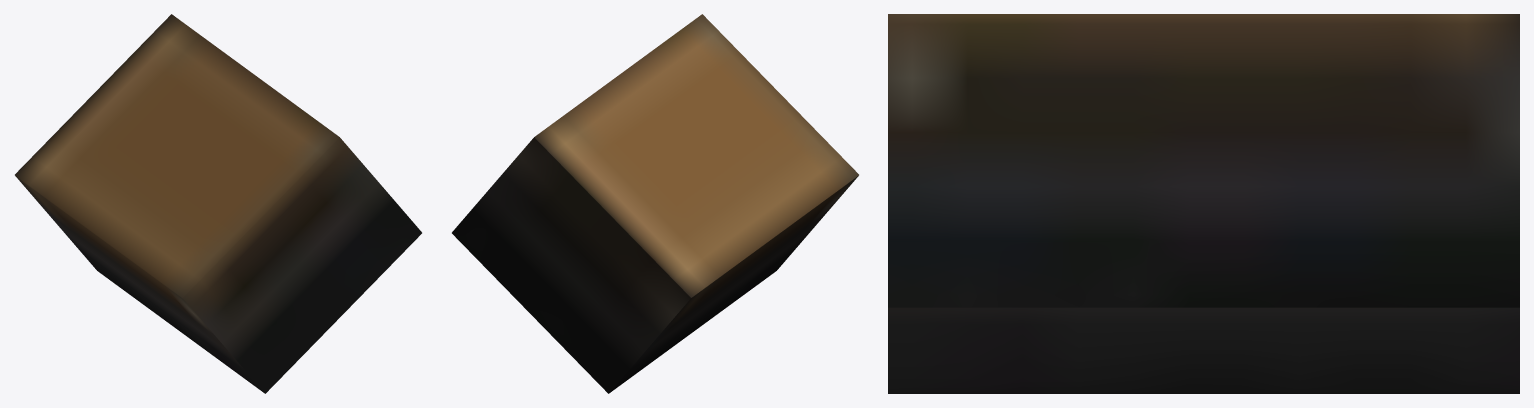
The model's file is button_03.DAE.
3 views of the same model, side by side, from view 1: azimuth 30°, elevation 25°; view 2: azimuth 150°, elevation 25°; view 3: azimuth 270°, elevation 25° (orthographic). The views are drawn at different scales.
Visible parts, largest first — view 1: button_03; view 2: button_03; view 3: button_03.
Boxes of the visible parts, x1=… form: button_03: x1=15, y1=14, x2=421, y2=393; button_03: x1=452, y1=14, x2=858, y2=393; button_03: x1=888, y1=14, x2=1519, y2=393.
Bounding box in the file's own units: 8.47 × 10.29 × 8.05.
